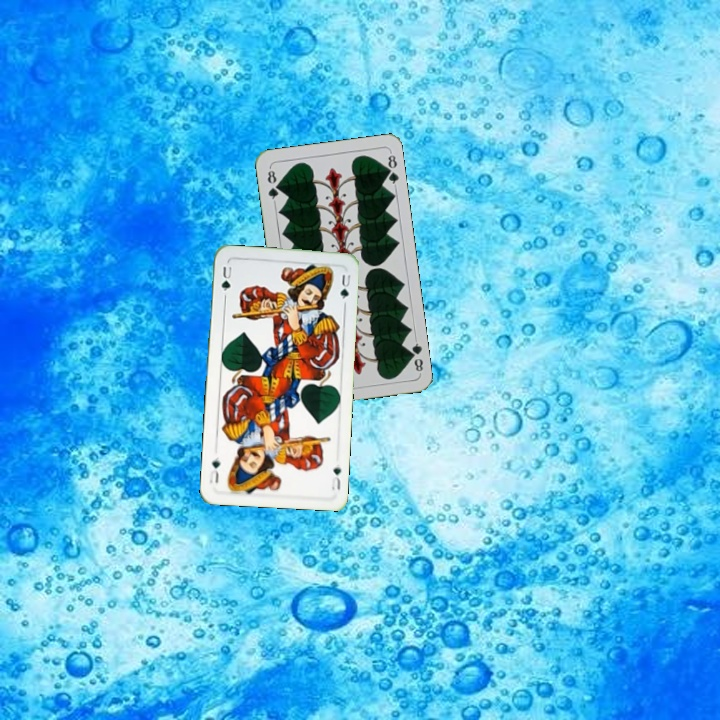G8: (404, 335, 426, 374), (263, 164, 281, 205)
GU: (217, 261, 234, 294), (327, 463, 343, 493)
